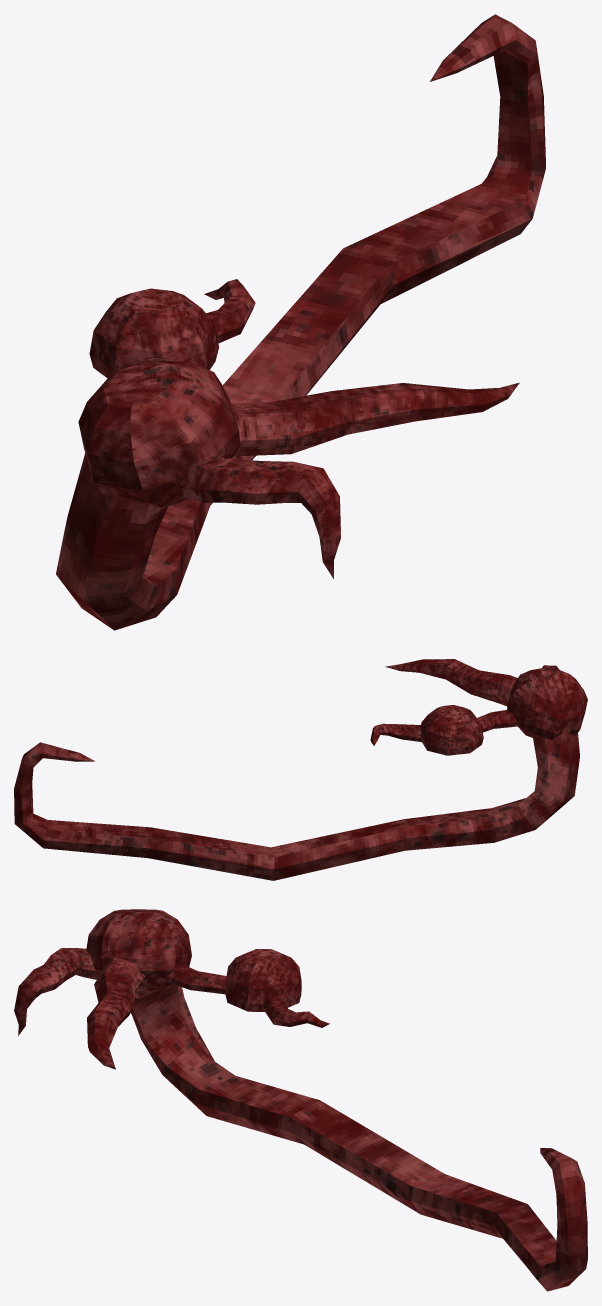
File: pustule_grp_6.fbx
The picture shows the model from 3 angles, top to bottom: view 1: azimuth 30°, elevation 25°; view 2: azimuth 150°, elevation 25°; view 3: azimuth 270°, elevation 25°; orthographic projection. The views are drawn at different scales.
Visible parts, largest first — view 1: tendril_9, bubble_5, tendril_7, bubble_4, tendril_8, tendril_5; view 2: tendril_9, bubble_5, tendril_7, bubble_4, tendril_5, tendril_6; view 3: tendril_9, bubble_5, bubble_4, tendril_7, tendril_8, tendril_6, tendril_5.
Boxes of the visible parts, bbox=[...] form: tendril_9: bbox=[56, 14, 545, 630]; bubble_5: bbox=[78, 356, 240, 507]; tendril_7: bbox=[231, 382, 519, 456]; bubble_4: bbox=[89, 288, 219, 378]; tendril_8: bbox=[177, 455, 340, 578]; tendril_5: bbox=[204, 279, 255, 342]; tendril_9: bbox=[14, 728, 579, 880]; bubble_5: bbox=[507, 667, 587, 739]; tendril_7: bbox=[385, 659, 517, 706]; bubble_4: bbox=[420, 705, 483, 755]; tendril_5: bbox=[370, 723, 422, 745]; tendril_6: bbox=[477, 710, 518, 732]; tendril_9: bbox=[131, 984, 587, 1291]; bubble_5: bbox=[86, 909, 191, 998]; bubble_4: bbox=[225, 949, 301, 1011]; tendril_7: bbox=[87, 956, 144, 1069]; tendril_8: bbox=[14, 948, 99, 1035]; tendril_6: bbox=[166, 963, 226, 994]; tendril_5: bbox=[262, 995, 329, 1027].
Size of the model in its own units: 5.65 by 2.18 by 5.56.
